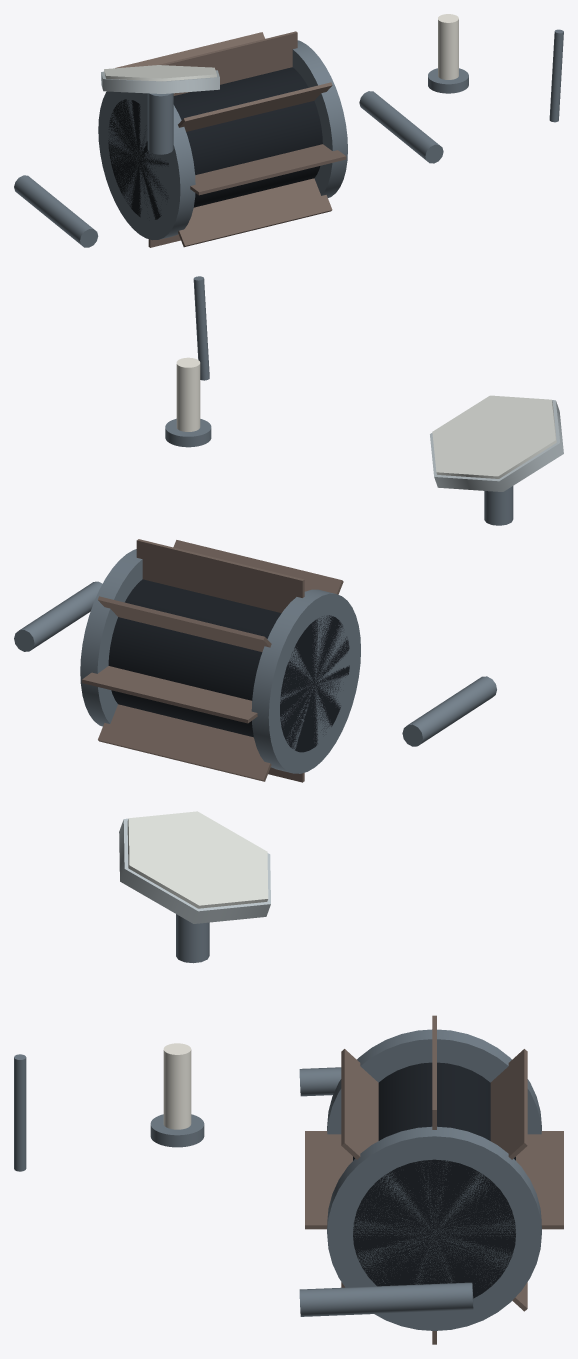
Rendered from curiosity_body.power_comms.glb.
3 renders of one model, top to bottom at view 1: azimuth 30°, elevation 25°; view 2: azimuth 150°, elevation 25°; view 3: azimuth 270°, elevation 25°, orthographic. The views are drawn at different scales.
Visible parts, largest first — view 1: curiosity_body.power_comms.mmrtg.mesh_Heat-stained_alloy, curiosity_body.power_comms.mmrtg.mesh_Carbon_composite, curiosity_body.power_comms.mmrtg.mesh_Machined_steel, curiosity_body.power_comms.mesh_Machined_steel, curiosity_body.power_comms.high_gain.mesh_Machined_steel, curiosity_body.power_comms.high_gain.elevation.mesh_Satin_al, curiosity_body.power_comms.high_gain.elevation.mesh_Pale_the, curiosity_body.power_comms.low_gain.mesh_Warm_white_enamel, curiosity_body.power_comms.uhf.mesh_Machined_steel, curiosity_body.power_comms.low_gain.mesh_Machined_steel; view 2: curiosity_body.power_comms.mmrtg.mesh_Heat-stained_alloy, curiosity_body.power_comms.mmrtg.mesh_Carbon_composite, curiosity_body.power_comms.mmrtg.mesh_Machined_steel, curiosity_body.power_comms.high_gain.elevation.mesh_Pale_the, curiosity_body.power_comms.mesh_Machined_steel, curiosity_body.power_comms.high_gain.elevation.mesh_Satin_al, curiosity_body.power_comms.low_gain.mesh_Warm_white_enamel, curiosity_body.power_comms.uhf.mesh_Machined_steel, curiosity_body.power_comms.high_gain.mesh_Machined_steel, curiosity_body.power_comms.low_gain.mesh_Machined_steel; view 3: curiosity_body.power_comms.mmrtg.mesh_Machined_steel, curiosity_body.power_comms.mmrtg.mesh_Carbon_composite, curiosity_body.power_comms.mmrtg.mesh_Heat-stained_alloy, curiosity_body.power_comms.high_gain.elevation.mesh_Pale_the, curiosity_body.power_comms.mesh_Machined_steel, curiosity_body.power_comms.high_gain.elevation.mesh_Satin_al, curiosity_body.power_comms.low_gain.mesh_Warm_white_enamel, curiosity_body.power_comms.uhf.mesh_Machined_steel, curiosity_body.power_comms.high_gain.mesh_Machined_steel, curiosity_body.power_comms.low_gain.mesh_Machined_steel.
Boxes of the visible parts, <box> form: curiosity_body.power_comms.mmrtg.mesh_Heat-stained_alloy: <box>115,31,346,247</box>; curiosity_body.power_comms.mmrtg.mesh_Carbon_composite: <box>108,67,322,219</box>; curiosity_body.power_comms.mmrtg.mesh_Machined_steel: <box>98,40,347,240</box>; curiosity_body.power_comms.mesh_Machined_steel: <box>14,91,443,247</box>; curiosity_body.power_comms.high_gain.mesh_Machined_steel: <box>147,93,173,154</box>; curiosity_body.power_comms.high_gain.elevation.mesh_Satin_al: <box>101,70,219,93</box>; curiosity_body.power_comms.high_gain.elevation.mesh_Pale_the: <box>104,65,216,81</box>; curiosity_body.power_comms.low_gain.mesh_Warm_white_enamel: <box>438,14,458,79</box>; curiosity_body.power_comms.uhf.mesh_Machined_steel: <box>549,29,563,122</box>; curiosity_body.power_comms.low_gain.mesh_Machined_steel: <box>428,68,468,93</box>; curiosity_body.power_comms.mmrtg.mesh_Heat-stained_alloy: <box>82,539,343,782</box>; curiosity_body.power_comms.mmrtg.mesh_Carbon_composite: <box>108,579,349,752</box>; curiosity_body.power_comms.mmrtg.mesh_Machined_steel: <box>80,549,360,773</box>; curiosity_body.power_comms.high_gain.elevation.mesh_Pale_the: <box>432,395,556,478</box>; curiosity_body.power_comms.mesh_Machined_steel: <box>14,581,496,746</box>; curiosity_body.power_comms.high_gain.elevation.mesh_Satin_al: <box>430,400,563,491</box>; curiosity_body.power_comms.low_gain.mesh_Warm_white_enamel: <box>176,357,200,431</box>; curiosity_body.power_comms.uhf.mesh_Machined_steel: <box>193,276,209,380</box>; curiosity_body.power_comms.high_gain.mesh_Machined_steel: <box>484,486,513,525</box>; curiosity_body.power_comms.low_gain.mesh_Machined_steel: <box>165,418,211,447</box>; curiosity_body.power_comms.mmrtg.mesh_Machined_steel: <box>327,1029,541,1330</box>; curiosity_body.power_comms.mmrtg.mesh_Carbon_composite: <box>353,1062,515,1298</box>; curiosity_body.power_comms.mmrtg.mesh_Heat-stained_alloy: <box>305,1015,563,1344</box>; curiosity_body.power_comms.high_gain.elevation.mesh_Pale_the: <box>127,811,268,908</box>; curiosity_body.power_comms.mesh_Machined_steel: <box>299,1067,473,1316</box>; curiosity_body.power_comms.high_gain.elevation.mesh_Satin_al: <box>119,818,270,923</box>; curiosity_body.power_comms.low_gain.mesh_Warm_white_enamel: <box>163,1043,191,1129</box>; curiosity_body.power_comms.uhf.mesh_Machined_steel: <box>14,1054,26,1171</box>; curiosity_body.power_comms.high_gain.mesh_Machined_steel: <box>176,914,209,963</box>; curiosity_body.power_comms.low_gain.mesh_Machined_steel: <box>150,1114,204,1147</box>.
Bounding box in the file's own units: 1.55 × 1.05 × 1.43.
